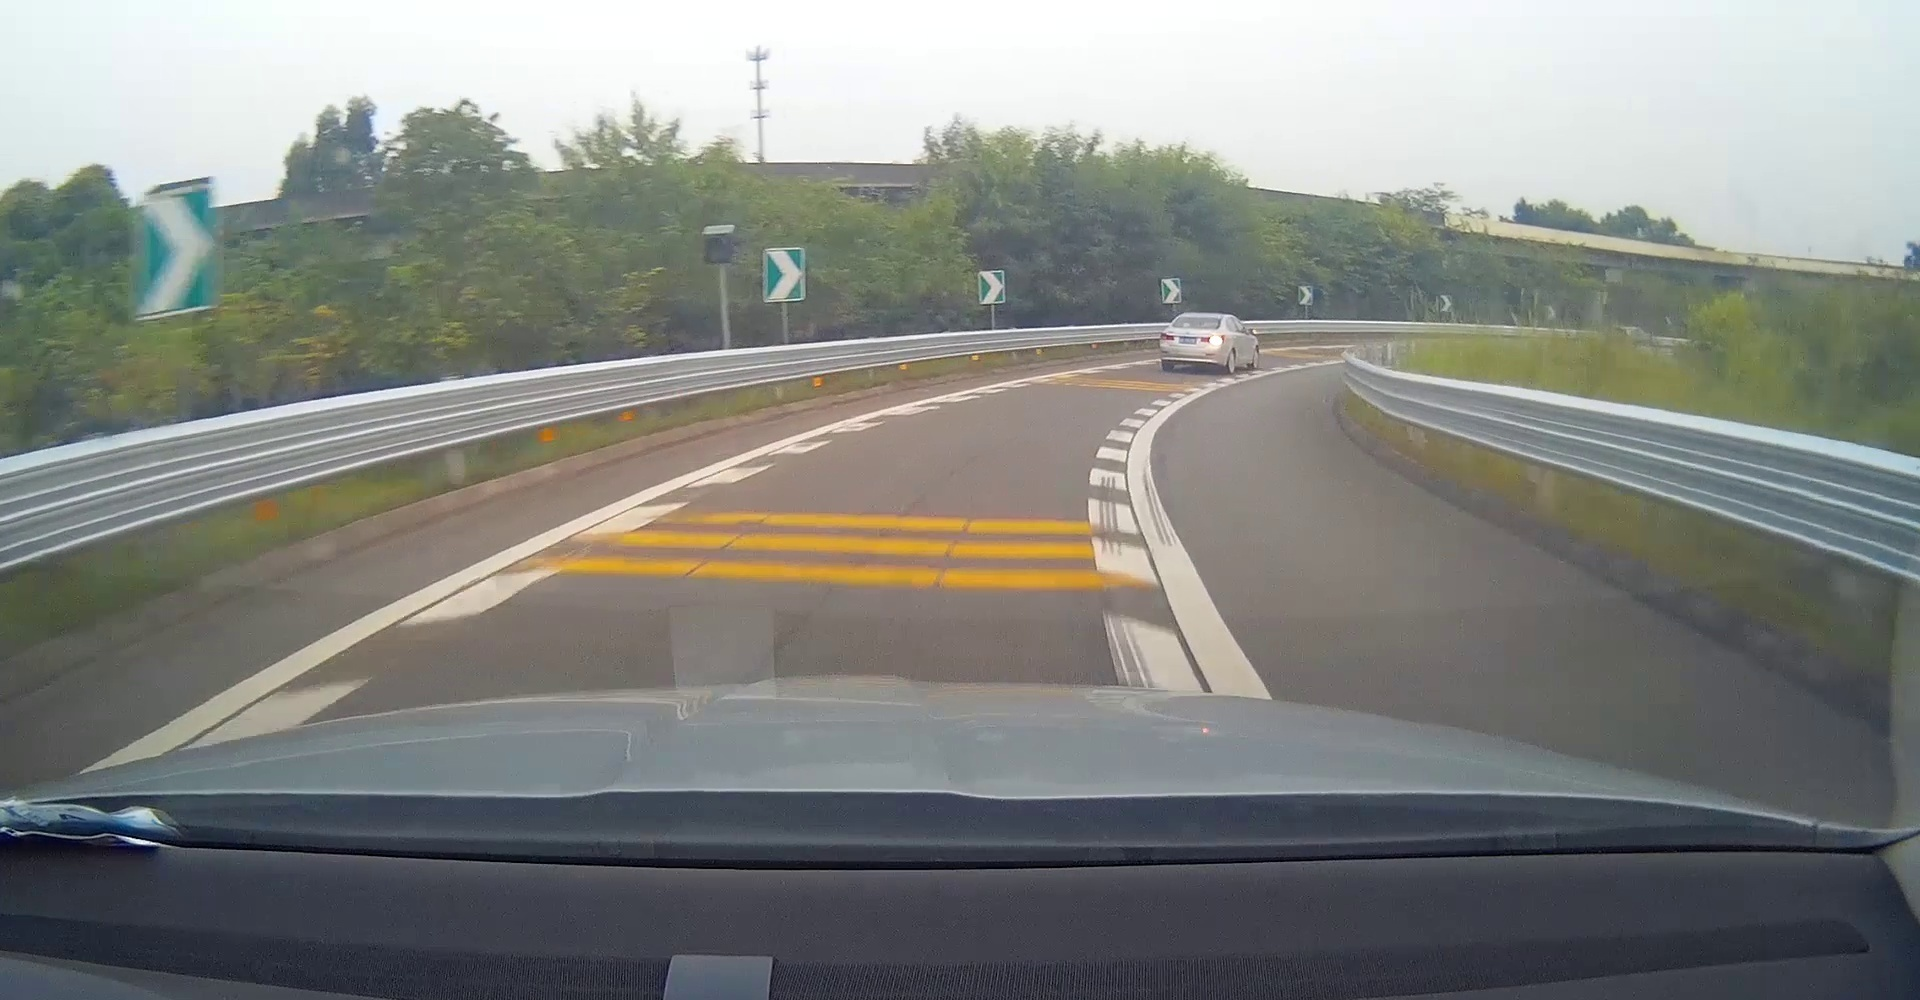L_light: (1161, 332, 1175, 341)
R_light: (1200, 335, 1224, 343)
T_light: (1196, 317, 1205, 319)
day-right: (1159, 312, 1227, 374)
